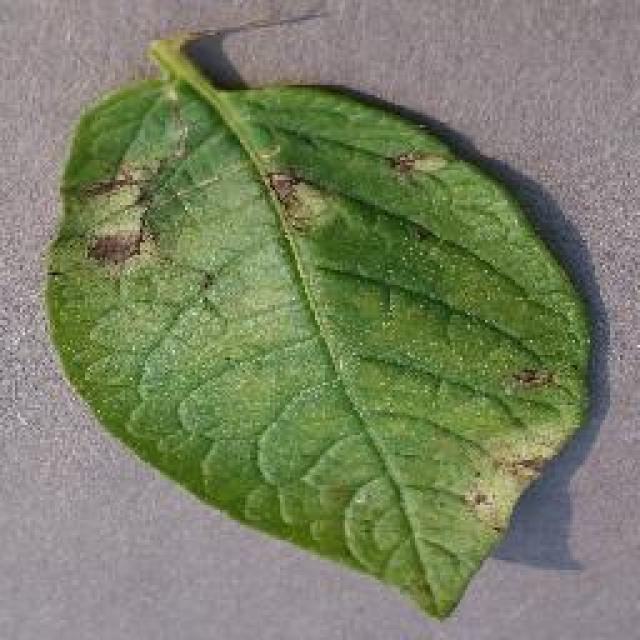Potato___Late_blight: (36, 27, 590, 623)
